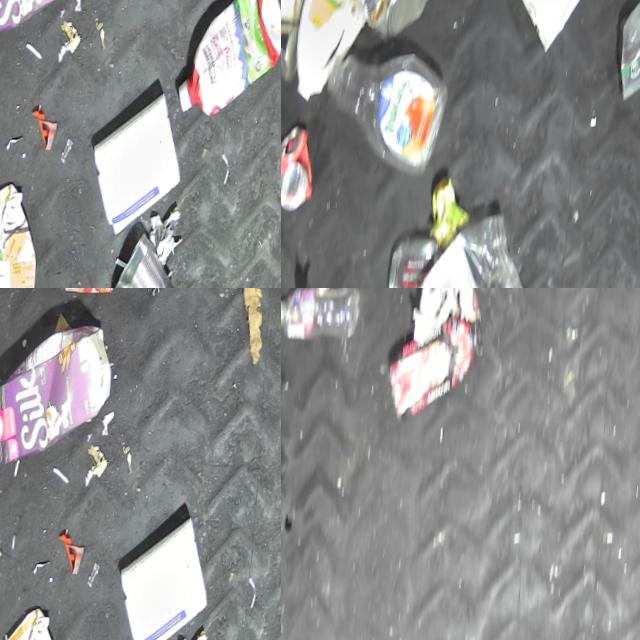can: (281, 121, 324, 228), (347, 0, 441, 48), (120, 235, 190, 288), (281, 9, 301, 94)
non_white_jug: (0, 323, 119, 469), (181, 0, 281, 127), (0, 182, 55, 288), (0, 0, 92, 45), (4, 606, 82, 640)
plastic_bottle: (281, 288, 363, 349)
